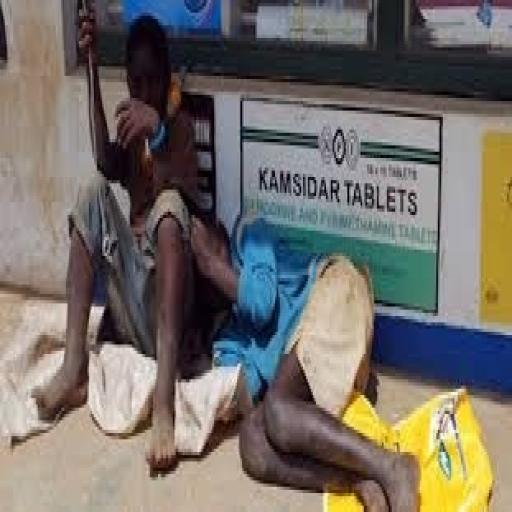sleeping: (31, 3, 201, 474)
